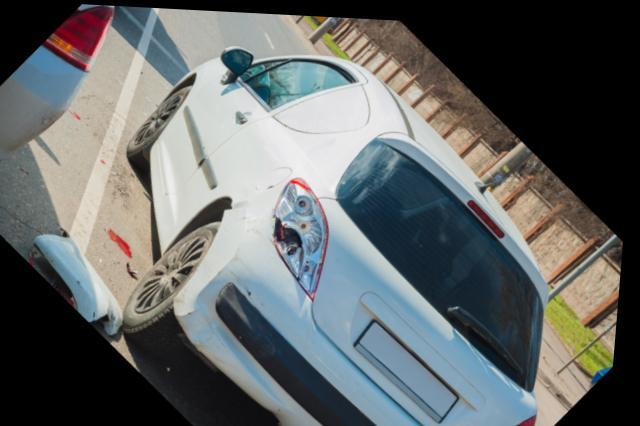lamp broken: (275, 173, 331, 296)
